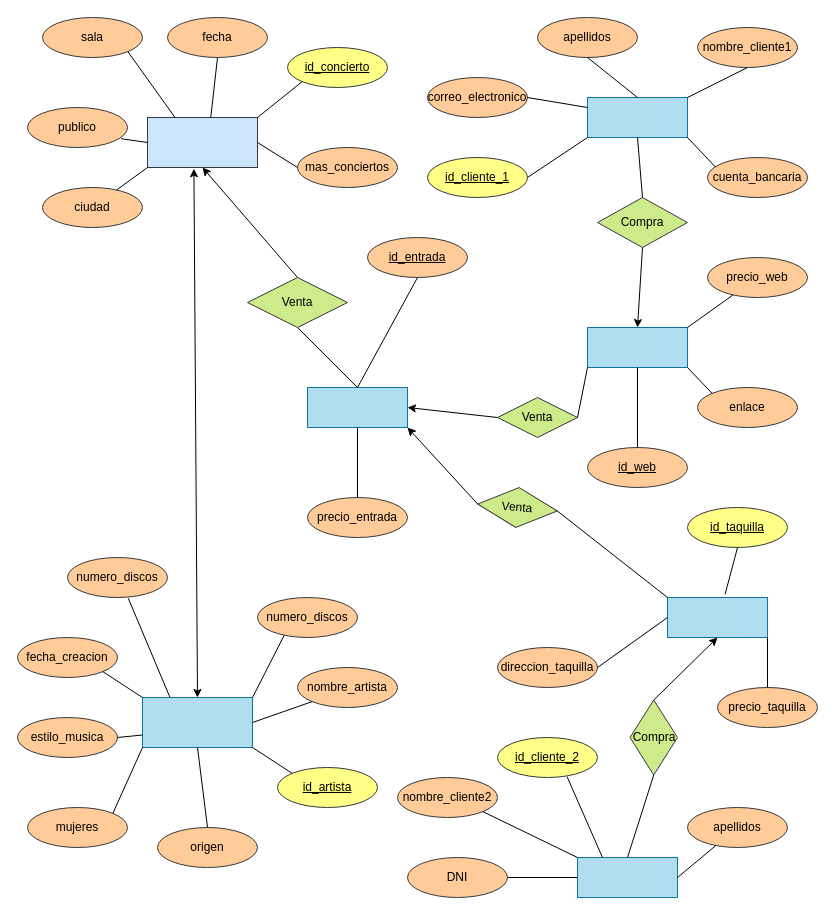
Some shapes in this 835 by 915 pixel diagram are drawn without their labels. Here are the shapes that lost their labels. From the top down, the box of each, then its label:
(586, 96, 688, 138): CLIENTE_1
(146, 116, 258, 168): CONCIERTO
(586, 326, 688, 368): WEB
(306, 386, 408, 428): ENTRADA
(666, 596, 768, 638): TAQUILLA
(142, 696, 252, 748): ARTISTA
(576, 856, 678, 898): CLIENTE_2
